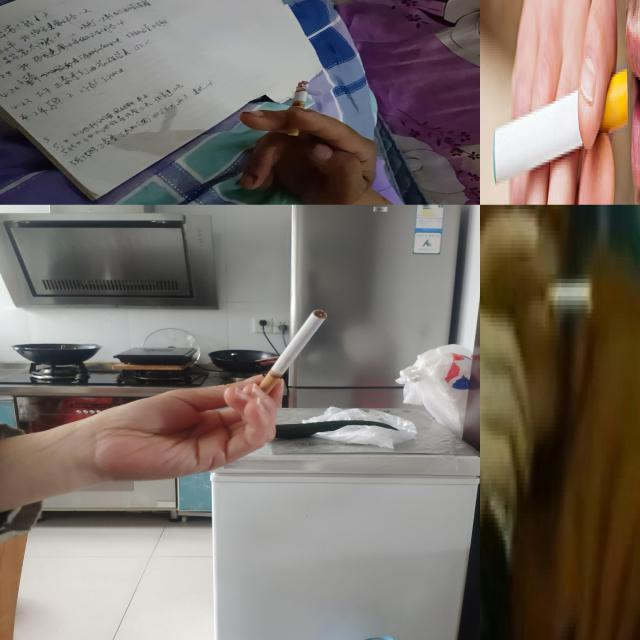smoking: (492, 64, 628, 184), (248, 309, 330, 404), (545, 270, 592, 314), (286, 81, 310, 136)
